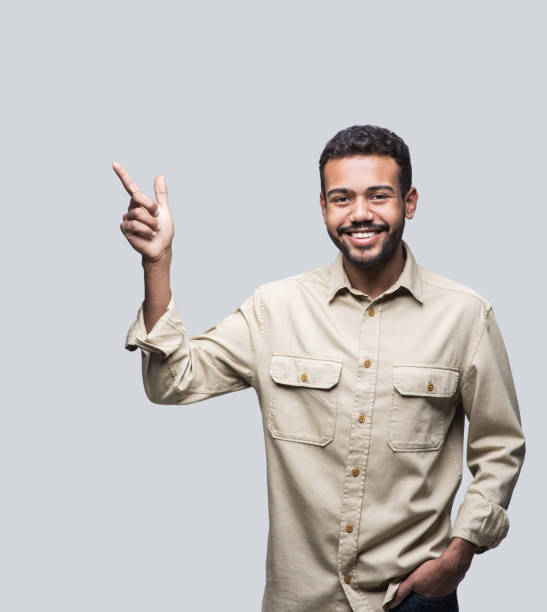face: (322, 168, 405, 266)
